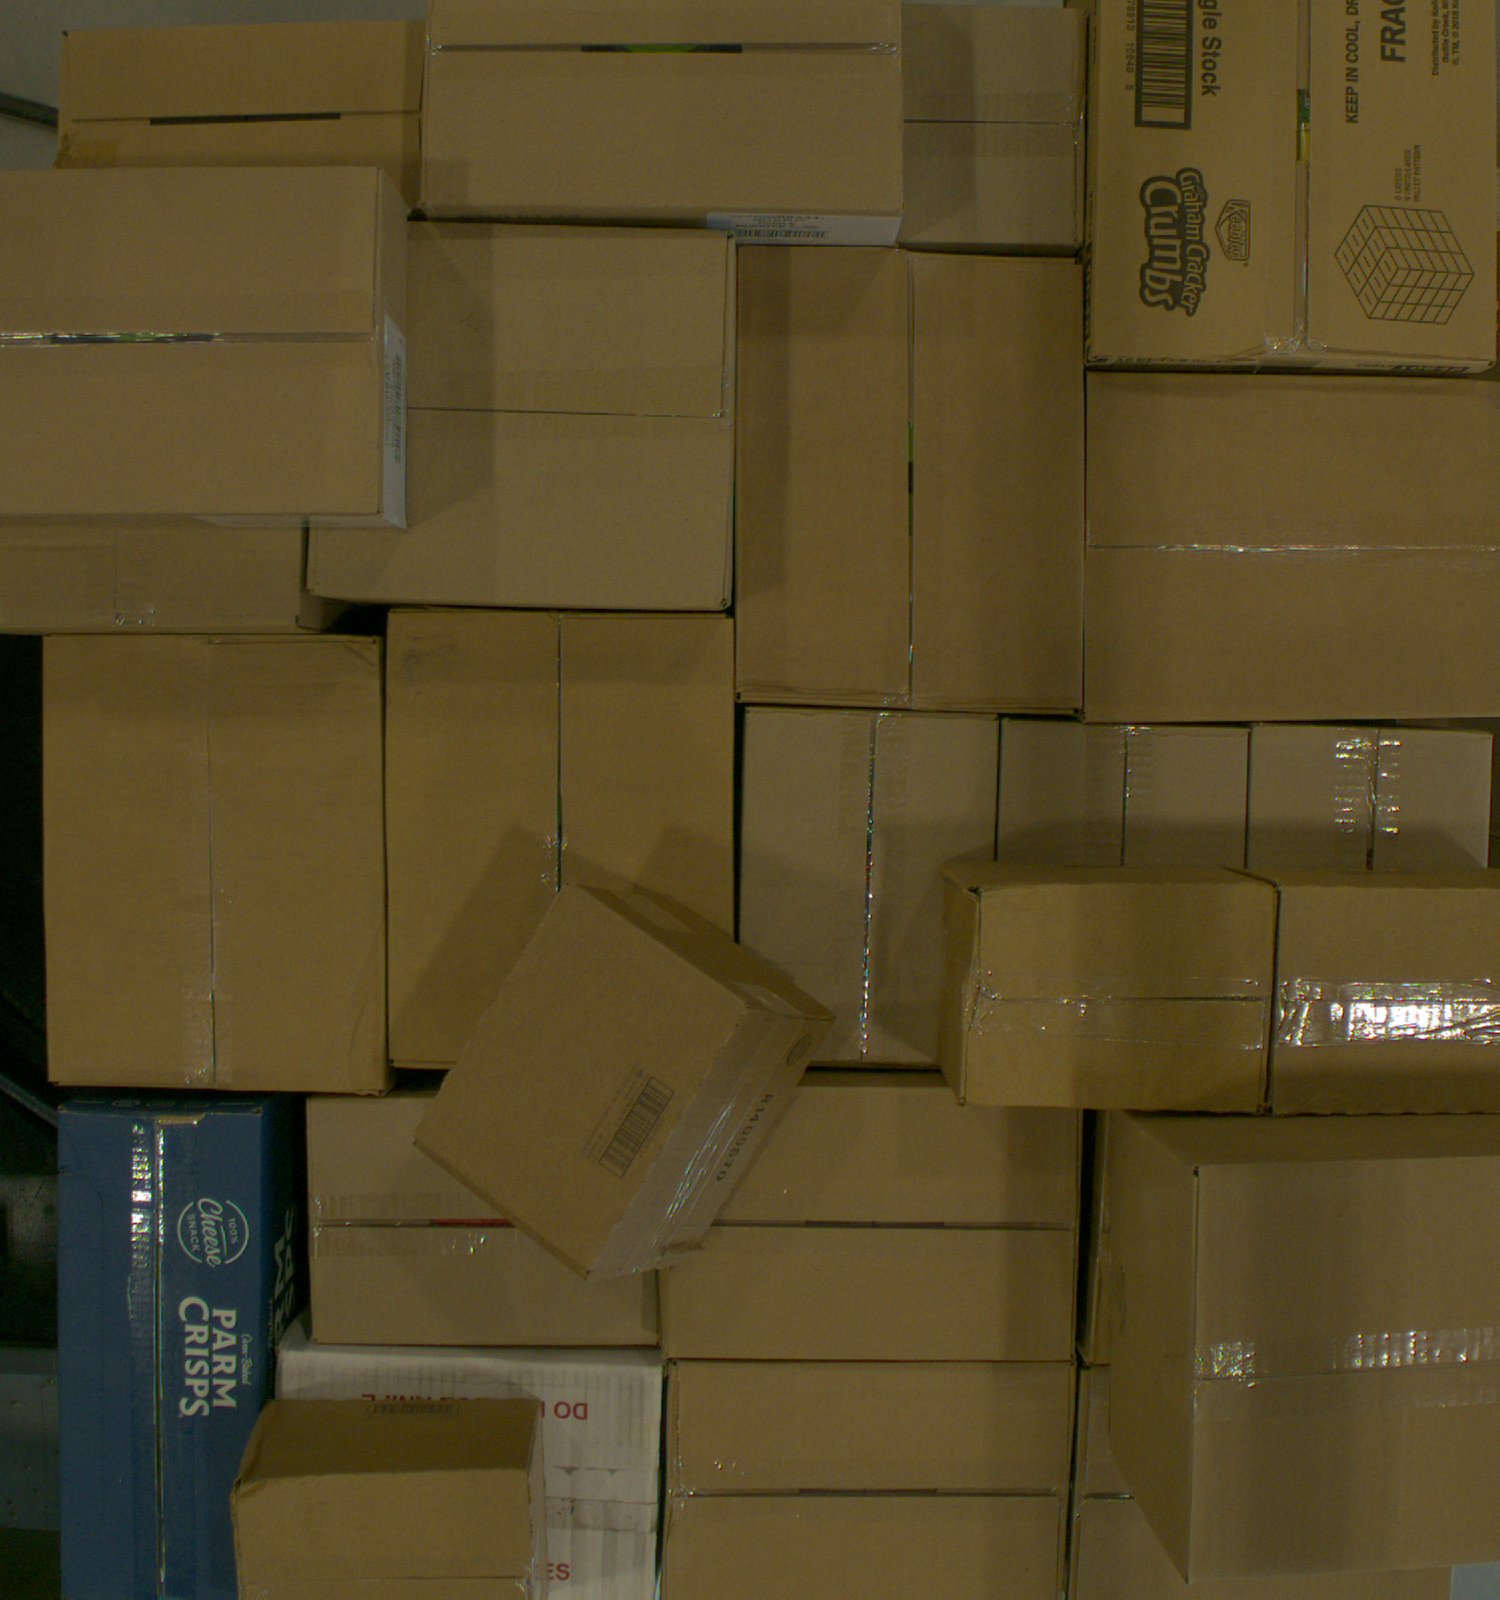box top: (309, 223, 734, 610), (737, 244, 1086, 718), (391, 612, 736, 1069), (47, 633, 388, 1095), (1093, 1, 1494, 368), (1086, 369, 1500, 720), (413, 882, 749, 1281), (1188, 1157, 1500, 1586), (1, 169, 382, 515), (660, 1087, 1084, 1360), (422, 1, 906, 211), (59, 1112, 264, 1600), (663, 1363, 1078, 1600), (276, 1350, 664, 1600), (742, 708, 1000, 1069), (1069, 1369, 1453, 1600), (307, 1098, 658, 1345), (959, 887, 1277, 1115), (56, 21, 427, 168), (1272, 884, 1500, 1119), (899, 4, 1088, 247), (230, 1470, 534, 1600), (1000, 719, 1249, 868), (1248, 723, 1492, 868), (1, 529, 303, 629)
